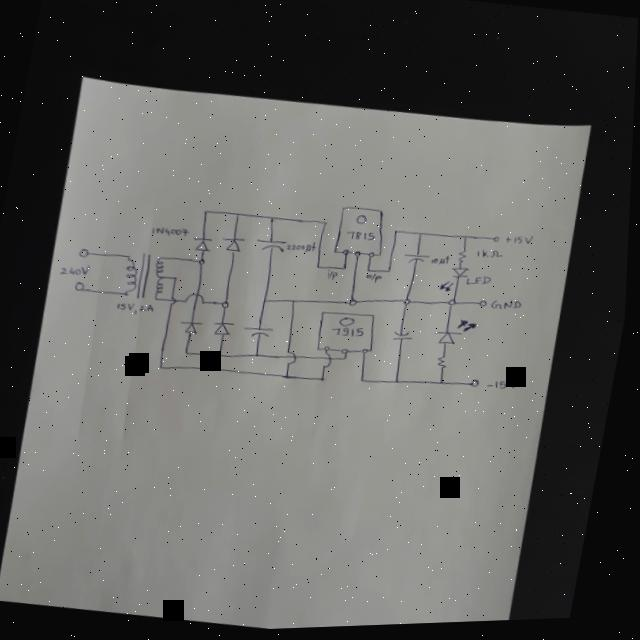capacitor: (256, 238, 291, 257), (244, 325, 279, 343), (402, 253, 435, 271), (394, 331, 420, 347)
crossover: (186, 292, 212, 309), (287, 351, 302, 368), (325, 354, 337, 372), (171, 298, 180, 308)
diode: (434, 319, 484, 357), (441, 266, 474, 299), (213, 321, 239, 343), (222, 236, 248, 257), (193, 235, 219, 256), (180, 320, 207, 339)
junction: (223, 301, 234, 312), (404, 300, 416, 310), (450, 301, 460, 311), (350, 301, 361, 310), (199, 259, 209, 268), (366, 270, 376, 278), (343, 266, 352, 274), (185, 351, 195, 358), (255, 354, 264, 361), (160, 365, 169, 372), (219, 353, 228, 360), (204, 210, 212, 217), (270, 218, 278, 225), (397, 381, 404, 389), (264, 299, 272, 306), (292, 300, 300, 307), (236, 213, 244, 220), (317, 266, 325, 273), (323, 222, 331, 229), (419, 234, 426, 241), (388, 270, 395, 277), (395, 231, 402, 238), (174, 276, 181, 283), (286, 376, 294, 382), (441, 383, 449, 389), (345, 358, 353, 364), (322, 379, 329, 385), (362, 381, 369, 387), (464, 238, 471, 244)
resistor: (458, 250, 471, 270), (439, 357, 453, 374)
terminal: (75, 281, 91, 295), (79, 248, 93, 260), (480, 302, 491, 312), (493, 240, 505, 249), (473, 383, 484, 392)
text: (117, 300, 160, 319), (152, 225, 193, 242), (488, 379, 524, 398), (332, 325, 369, 343), (60, 261, 94, 280), (492, 301, 526, 318), (288, 240, 320, 258), (347, 232, 379, 248), (477, 250, 506, 267), (468, 276, 497, 293), (507, 235, 536, 251), (431, 254, 456, 272), (366, 274, 387, 288), (327, 270, 342, 284)
transformer: (121, 250, 173, 304)
